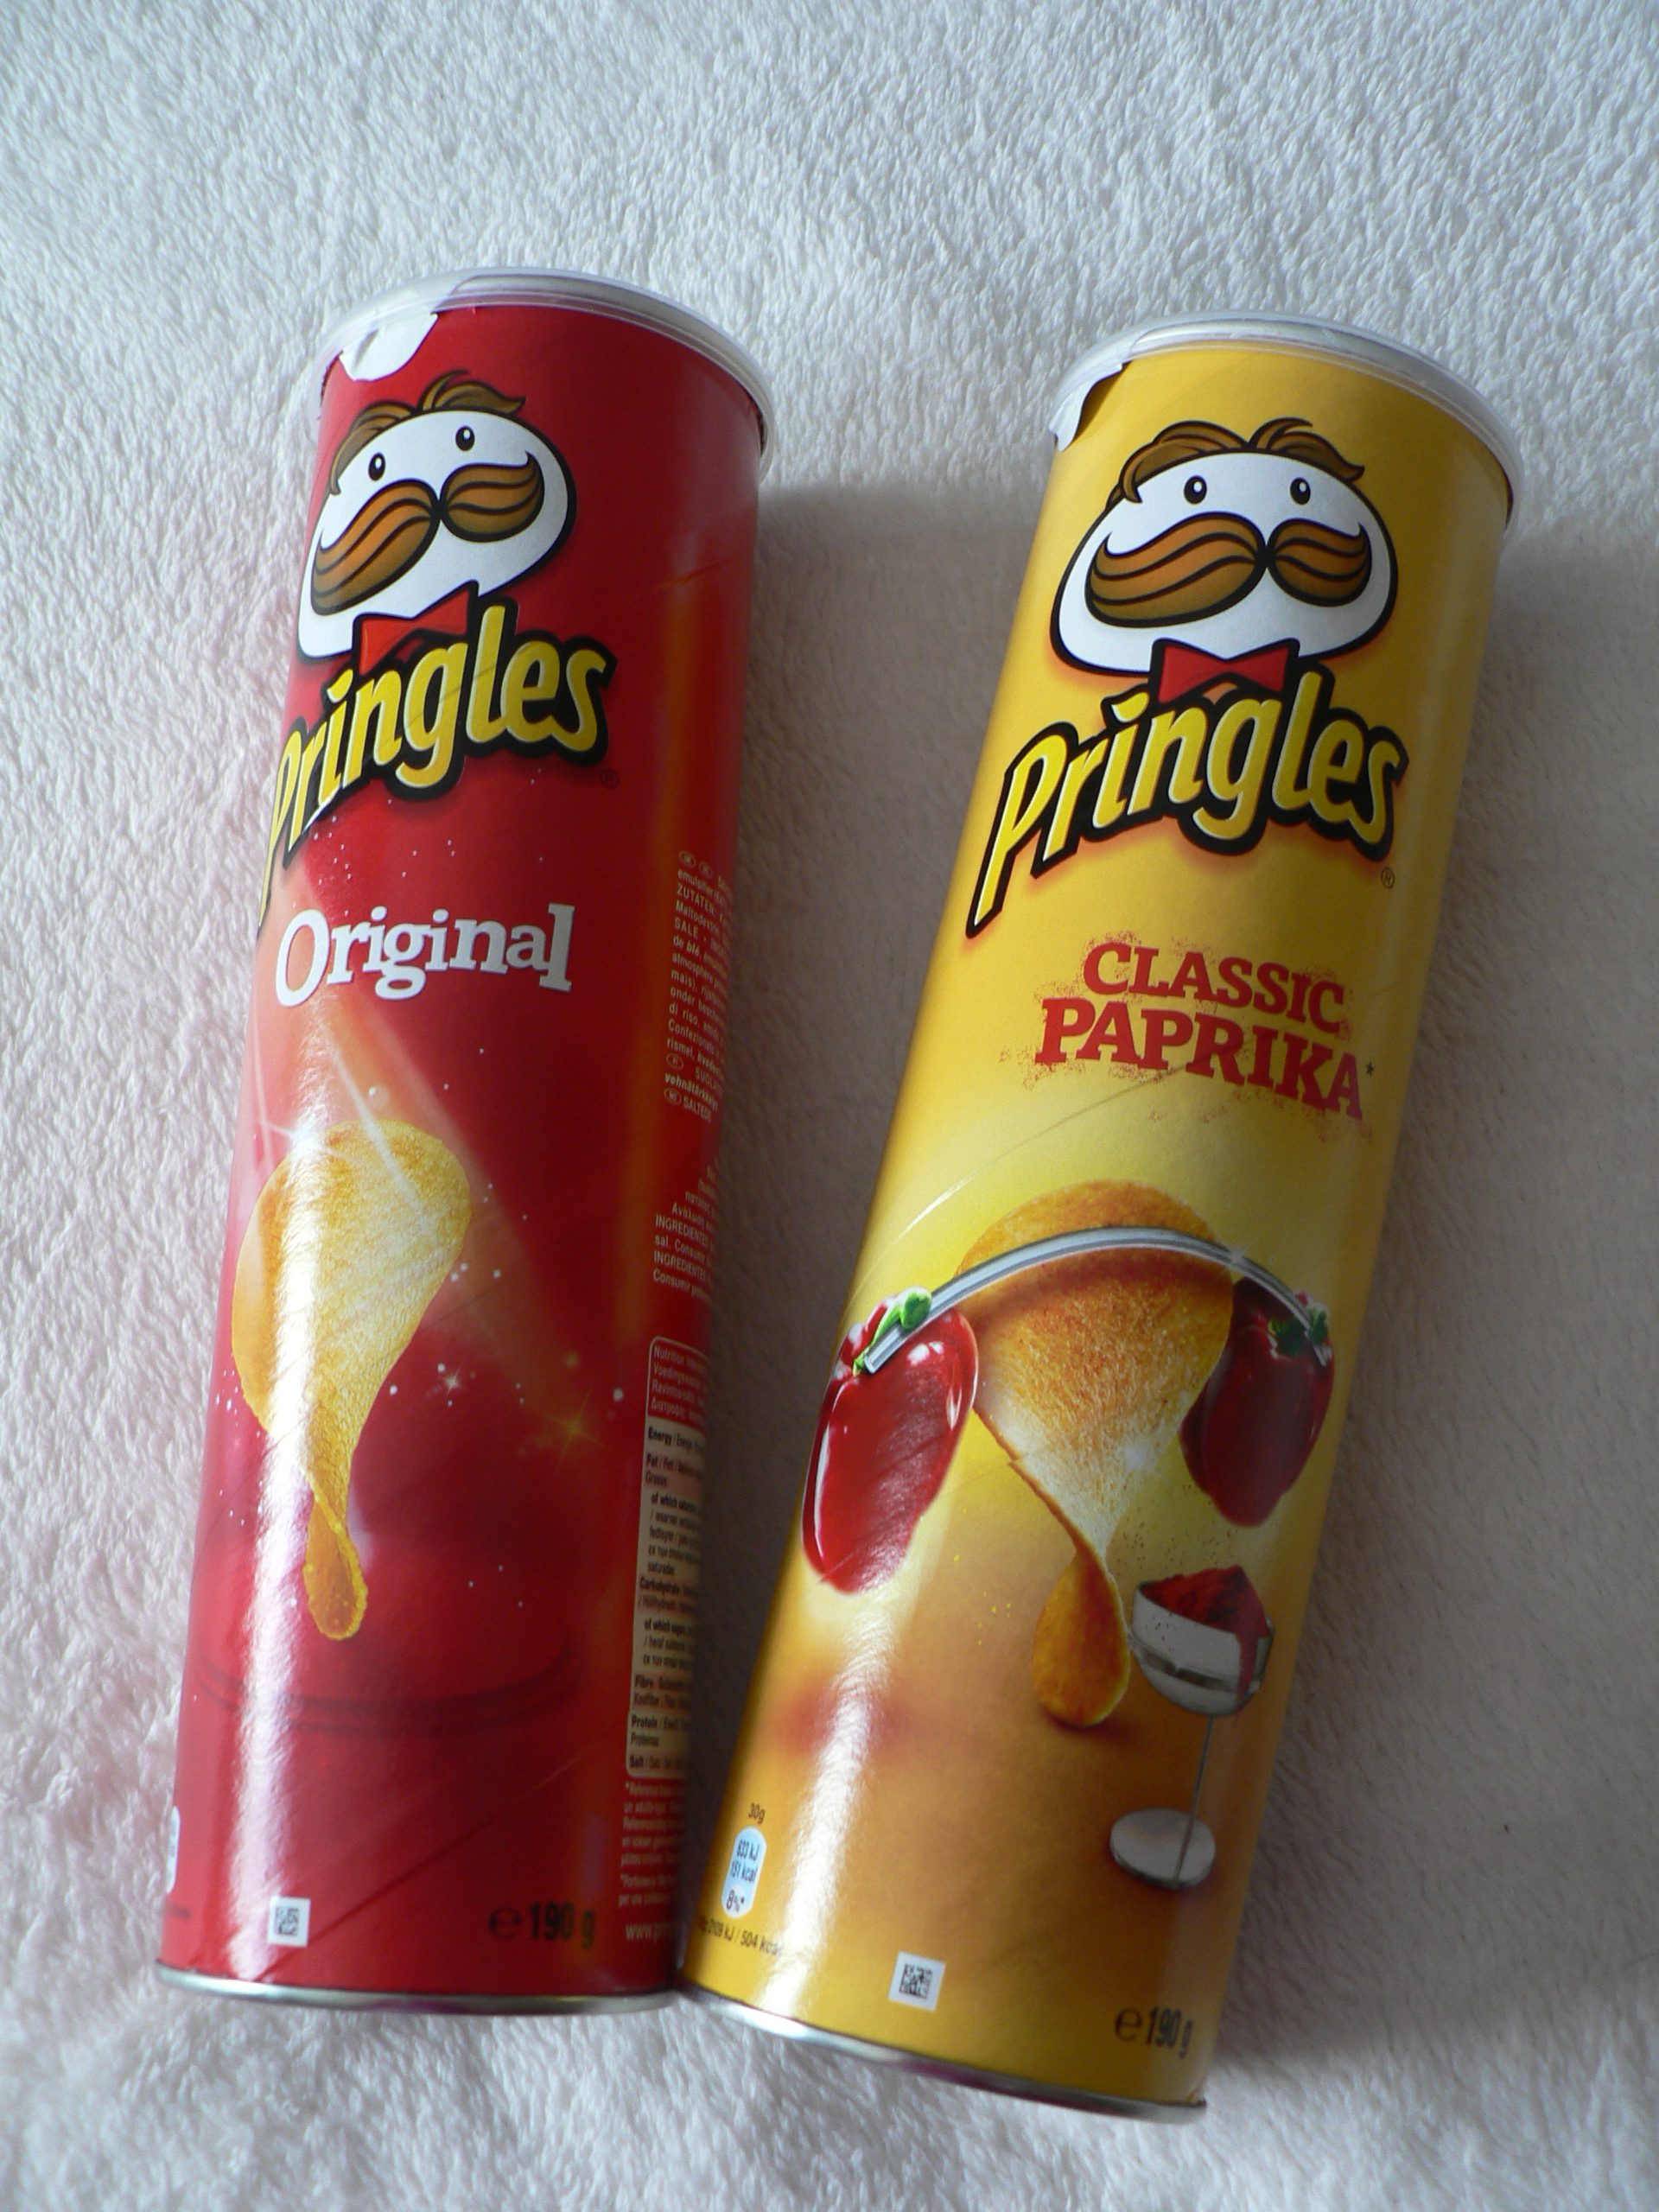pringle: (146, 254, 770, 2020)
